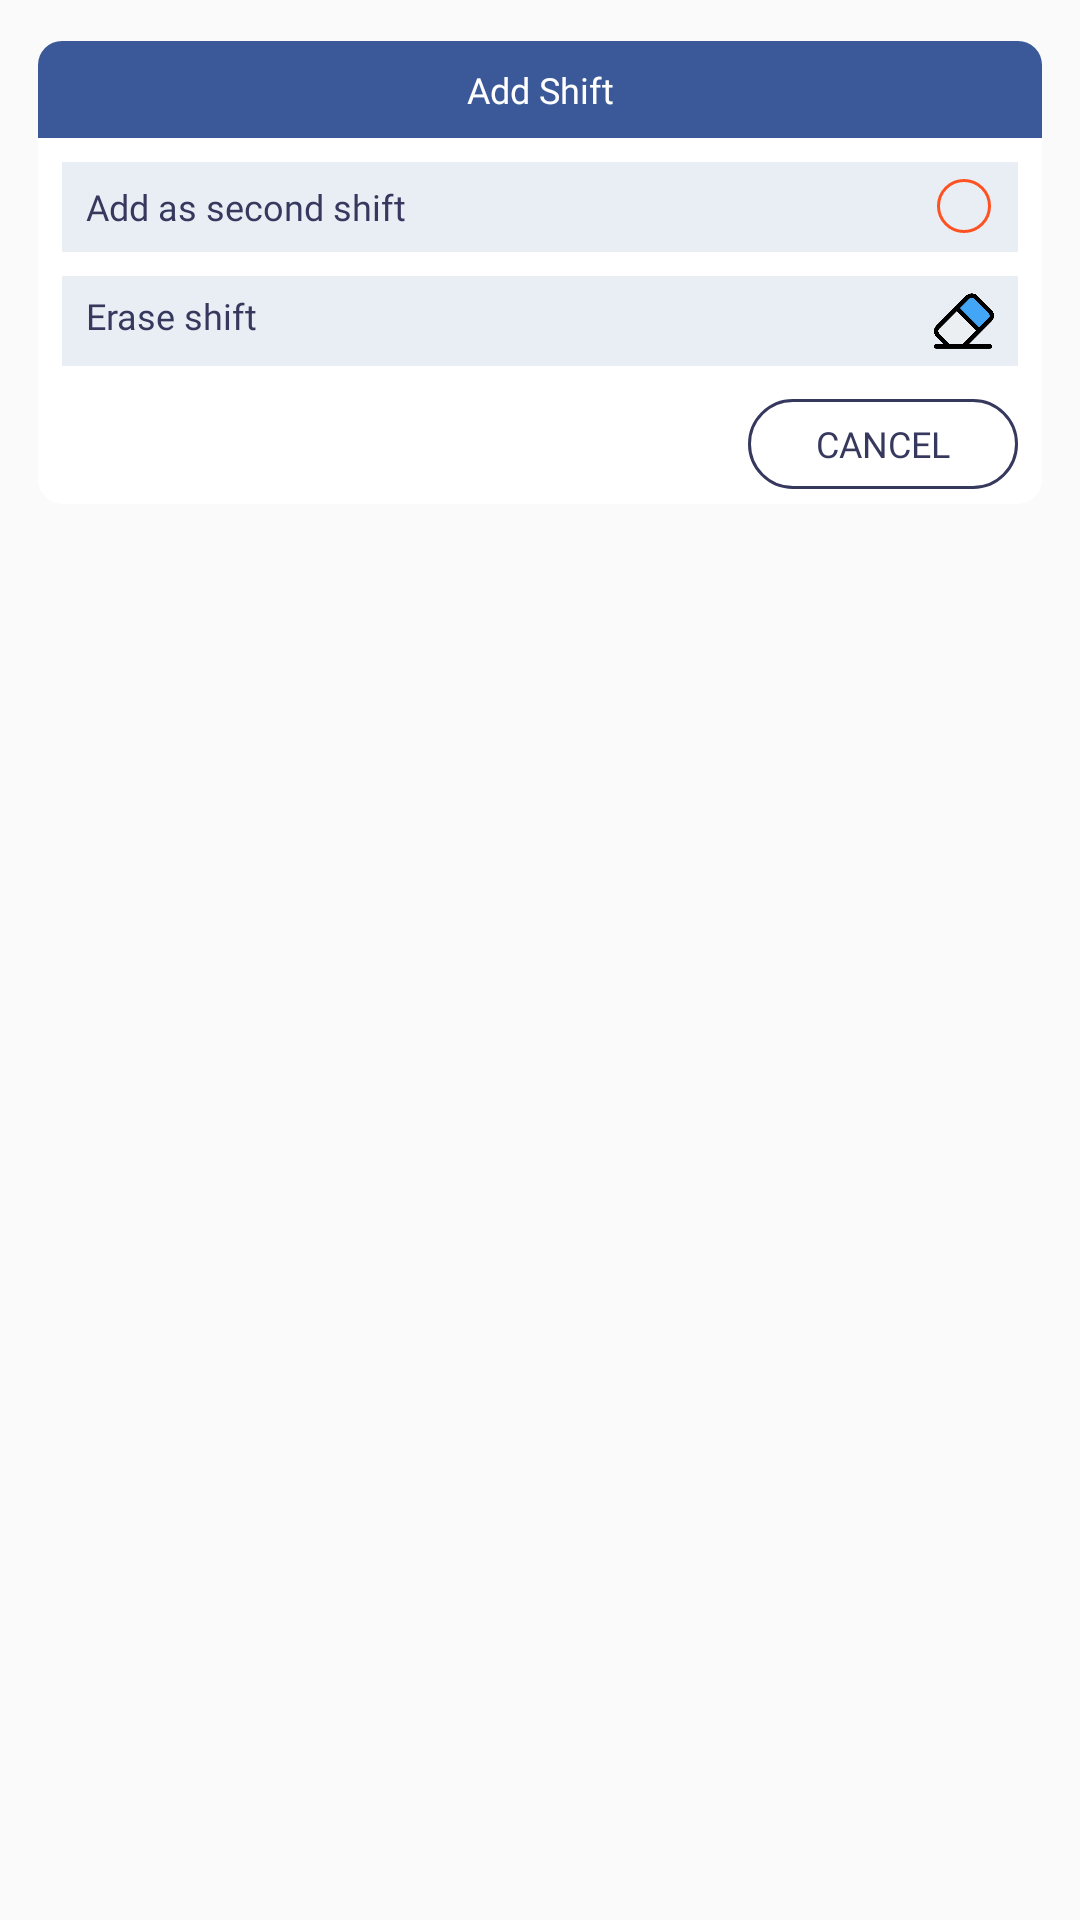

Locate icon controls on the screen. Image size 1080x1920, boxes as (x1, y1, x2, y2).
custom checkbox: (937, 179, 991, 233)
erase: (934, 293, 994, 349)
